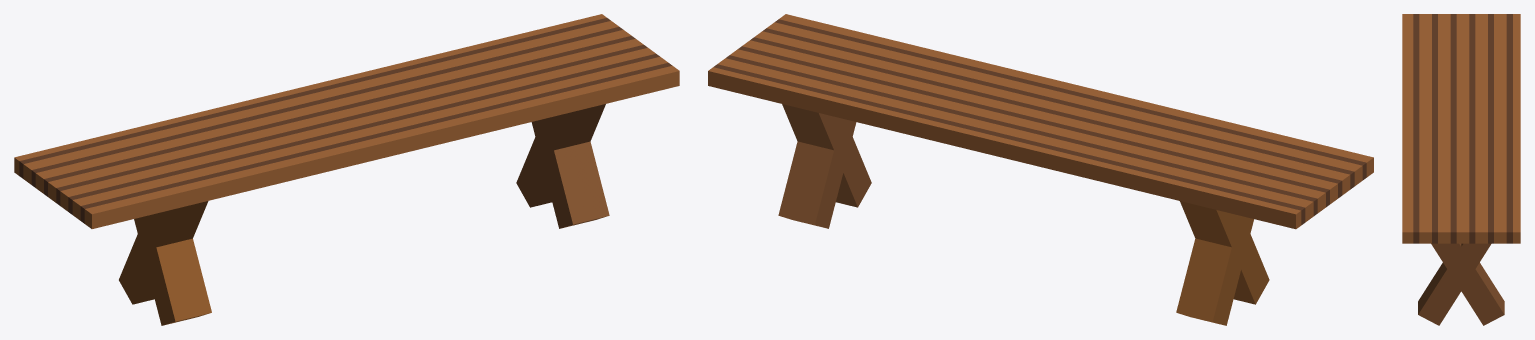
File: скамейка2.fbx
The picture shows the model from 3 angles, left to right: view 1: azimuth 30°, elevation 25°; view 2: azimuth 150°, elevation 25°; view 3: azimuth 270°, elevation 25°; orthographic projection. The views are drawn at different scales.
Visible parts, largest first — view 1: Куб, Cube.001, Cube.002; view 2: Куб, Cube.001, Cube.002; view 3: Куб, Cube.002.
Boxes of the visible parts, x1,y1,x2,y2 form: Куб: (14, 14, 679, 228); Cube.001: (119, 201, 211, 325); Cube.002: (516, 104, 609, 228); Куб: (708, 14, 1373, 229); Cube.001: (1176, 201, 1269, 325); Cube.002: (778, 104, 871, 228); Куб: (1402, 14, 1520, 243); Cube.002: (1418, 243, 1504, 325).
Size of the model in its own units: 581 by 144 by 133.
